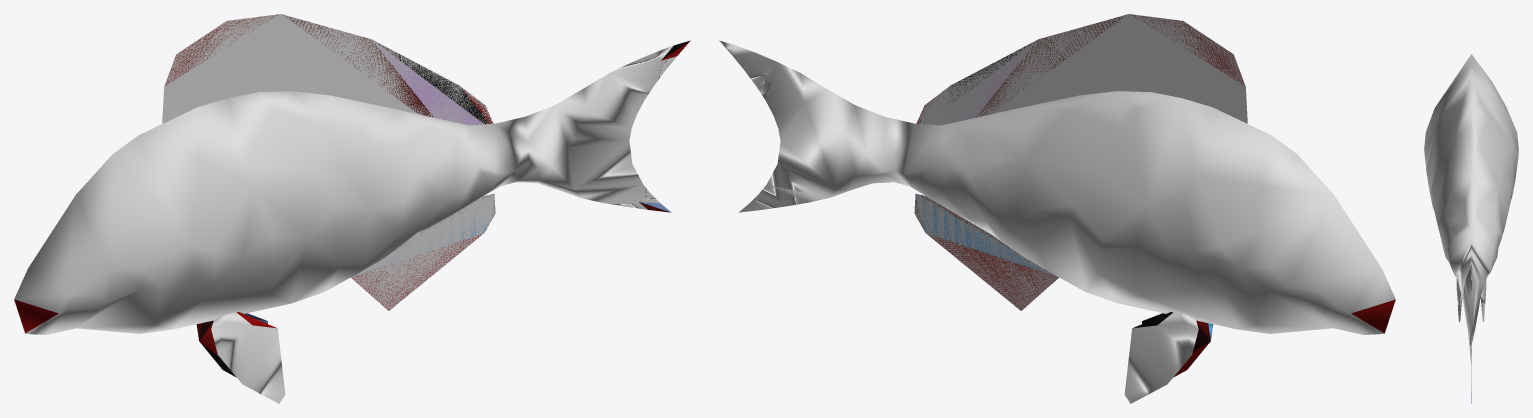
The picture shows the model from 3 angles, left to right: view 1: azimuth 30°, elevation 25°; view 2: azimuth 150°, elevation 25°; view 3: azimuth 270°, elevation 25°; orthographic projection. The views are drawn at different scales.
Size of the model in its own units: 0.95 by 0.5201 by 0.1539.
